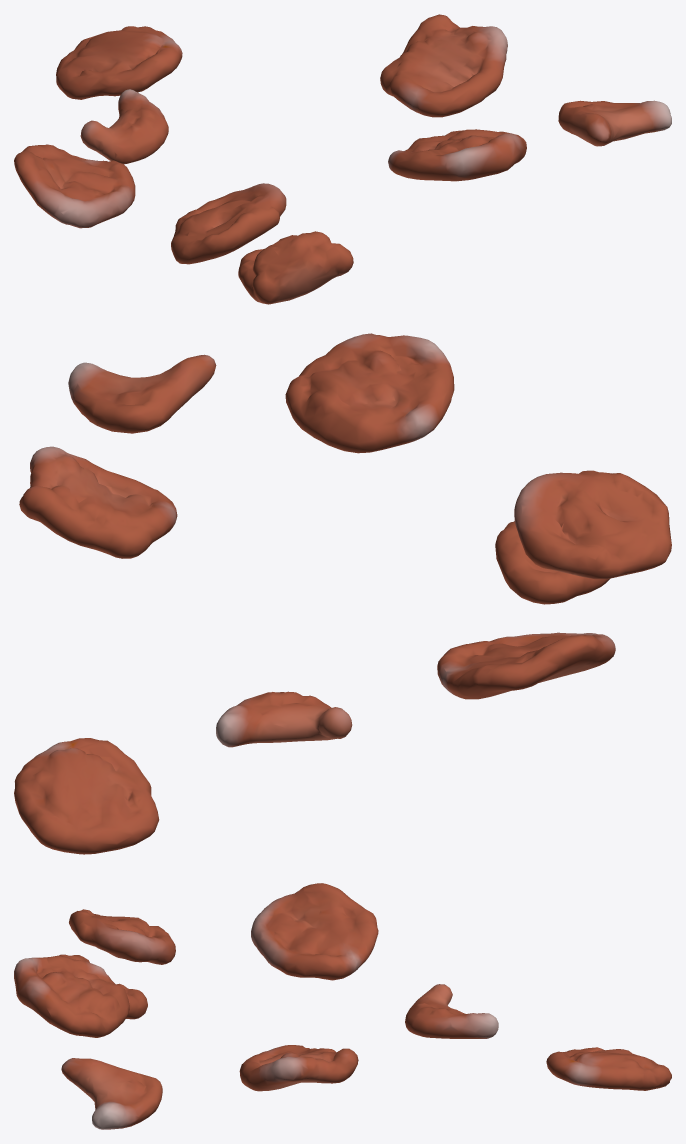
3 views of the same model, one above another, from view 1: azimuth 30°, elevation 25°; view 2: azimuth 150°, elevation 25°; view 3: azimuth 270°, elevation 25° (orthographic). The views are drawn at different scales.
Visible parts, largest first — view 1: LOD 0_14118979198586646984_820756dedd5b3434c8e6bed8ae6a193b; view 2: LOD 0_14118979198586646984_820756dedd5b3434c8e6bed8ae6a193b; view 3: LOD 0_14118979198586646984_820756dedd5b3434c8e6bed8ae6a193b.
Part boxes in pixels (x1=…): LOD 0_14118979198586646984_820756dedd5b3434c8e6bed8ae6a193b: x1=14, y1=14, x2=671, y2=304; LOD 0_14118979198586646984_820756dedd5b3434c8e6bed8ae6a193b: x1=14, y1=333, x2=671, y2=854; LOD 0_14118979198586646984_820756dedd5b3434c8e6bed8ae6a193b: x1=14, y1=883, x2=671, y2=1129.
Bounding box in the file's own units: 2.56 × 0.7241 × 2.93.
